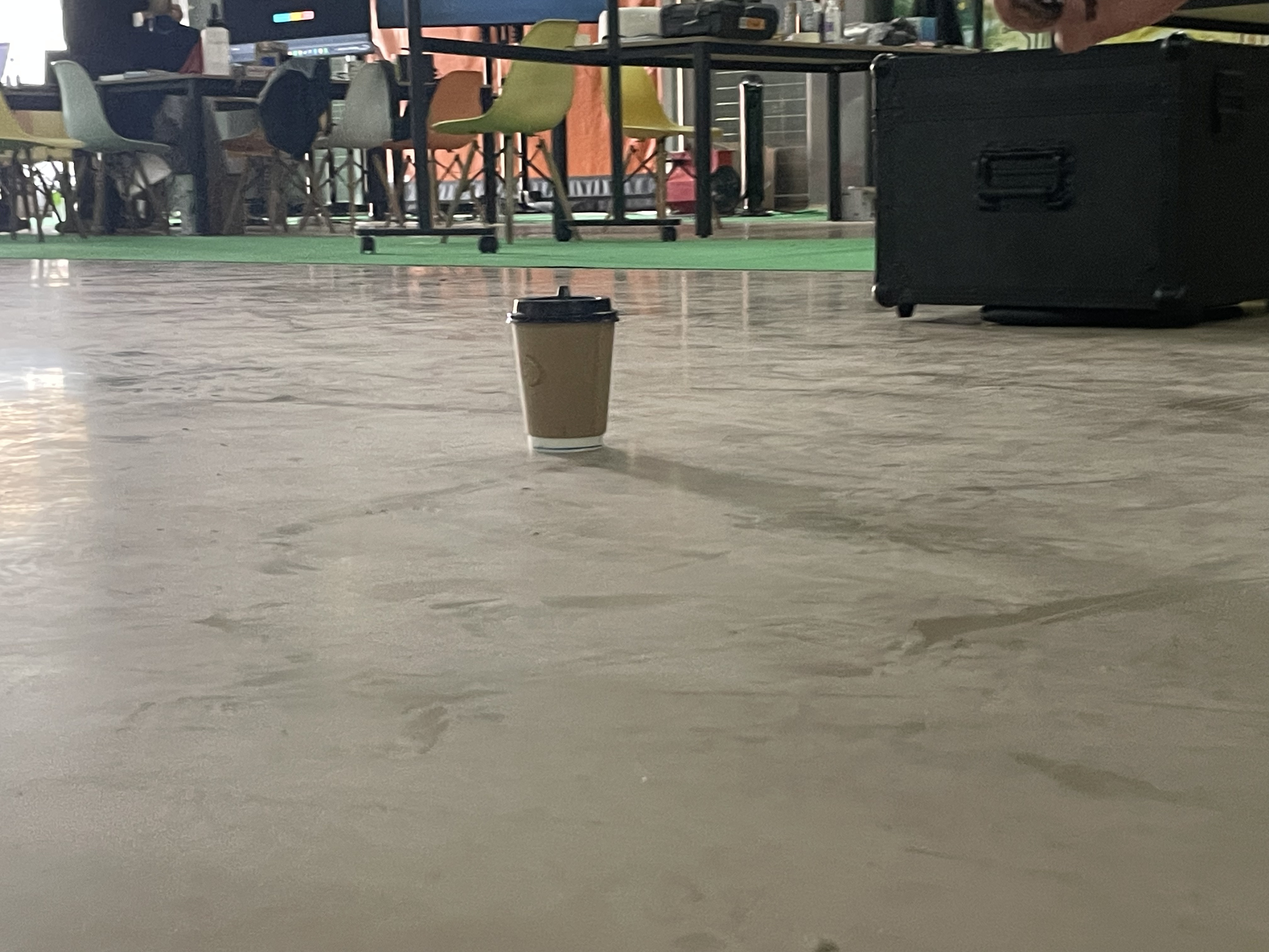cup: (509, 286, 619, 453)
